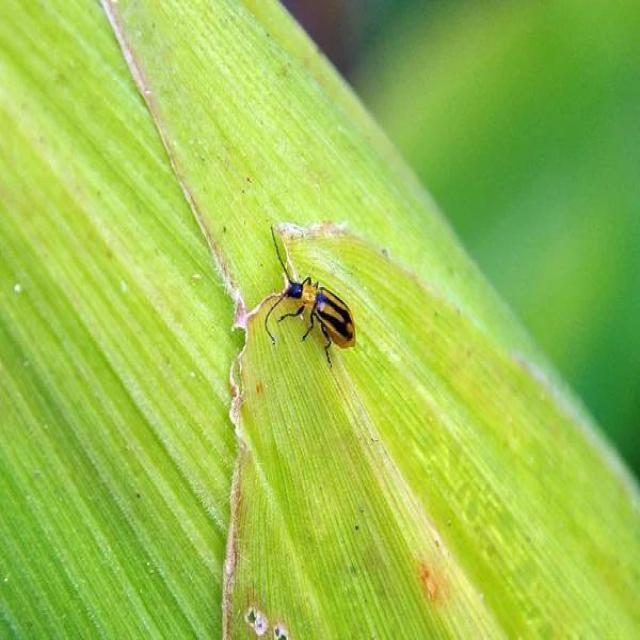trips: (262, 224, 357, 370)
